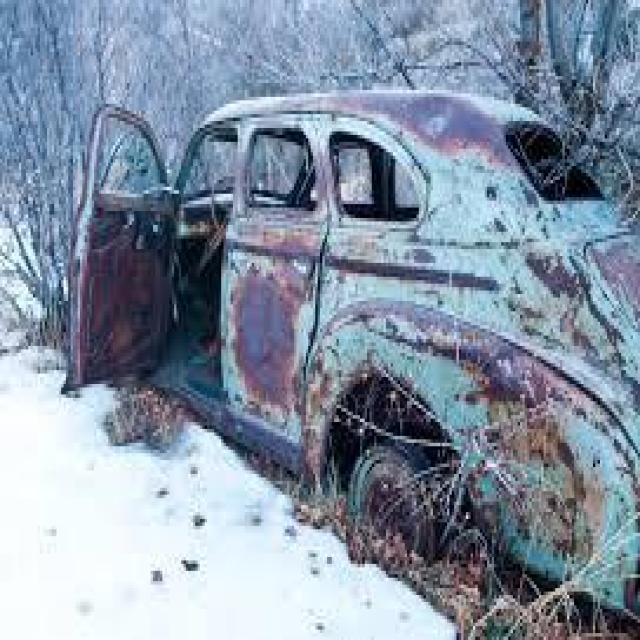non-corrosion: (56, 71, 640, 614)
